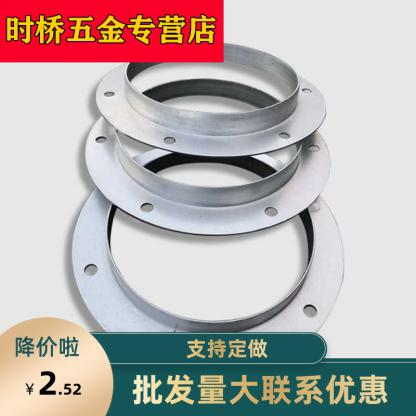FOD: (67, 140, 348, 352), (80, 99, 335, 236), (94, 34, 329, 158)
